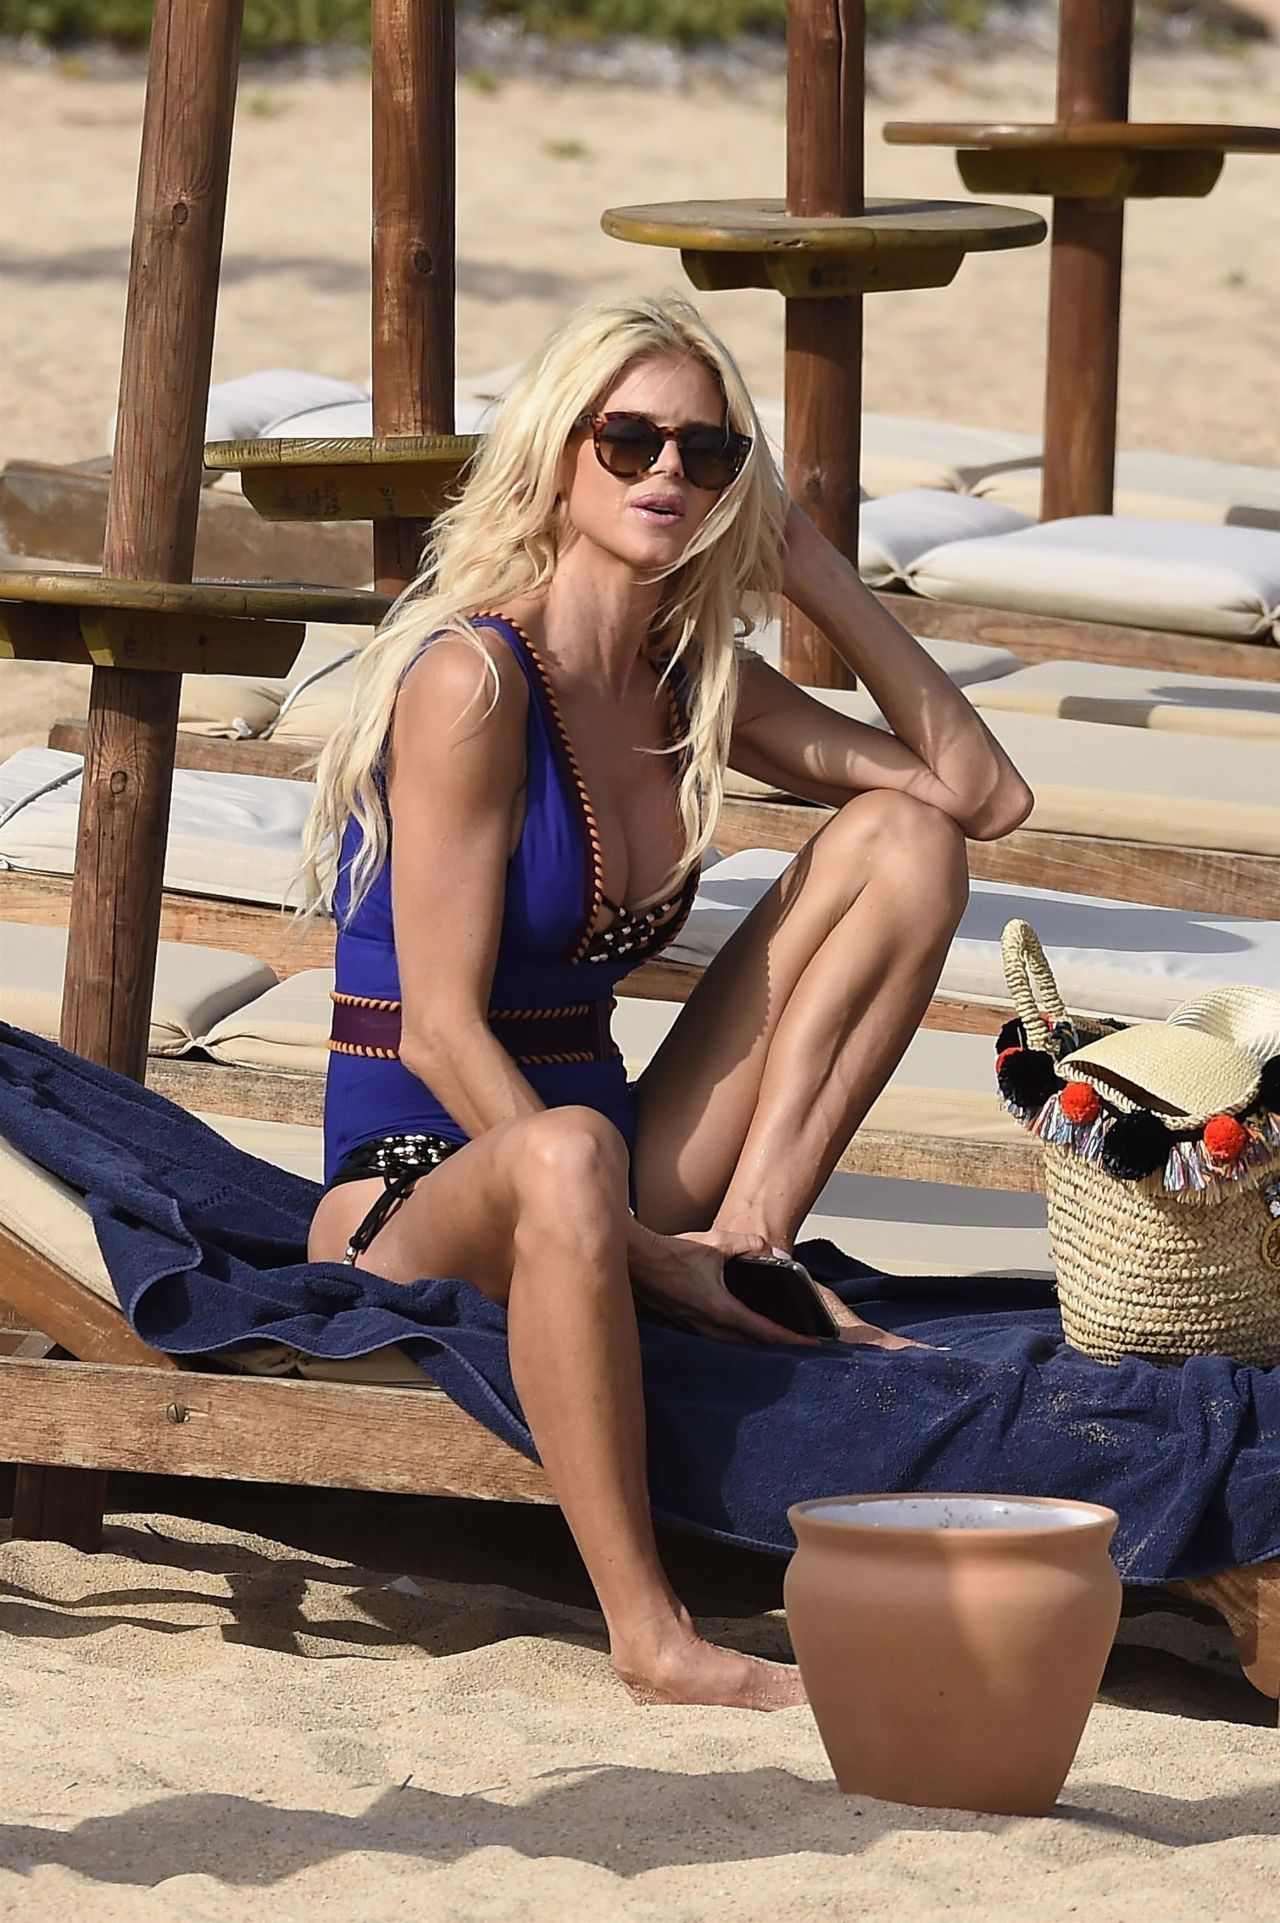Person: (300, 286, 1038, 1742)
